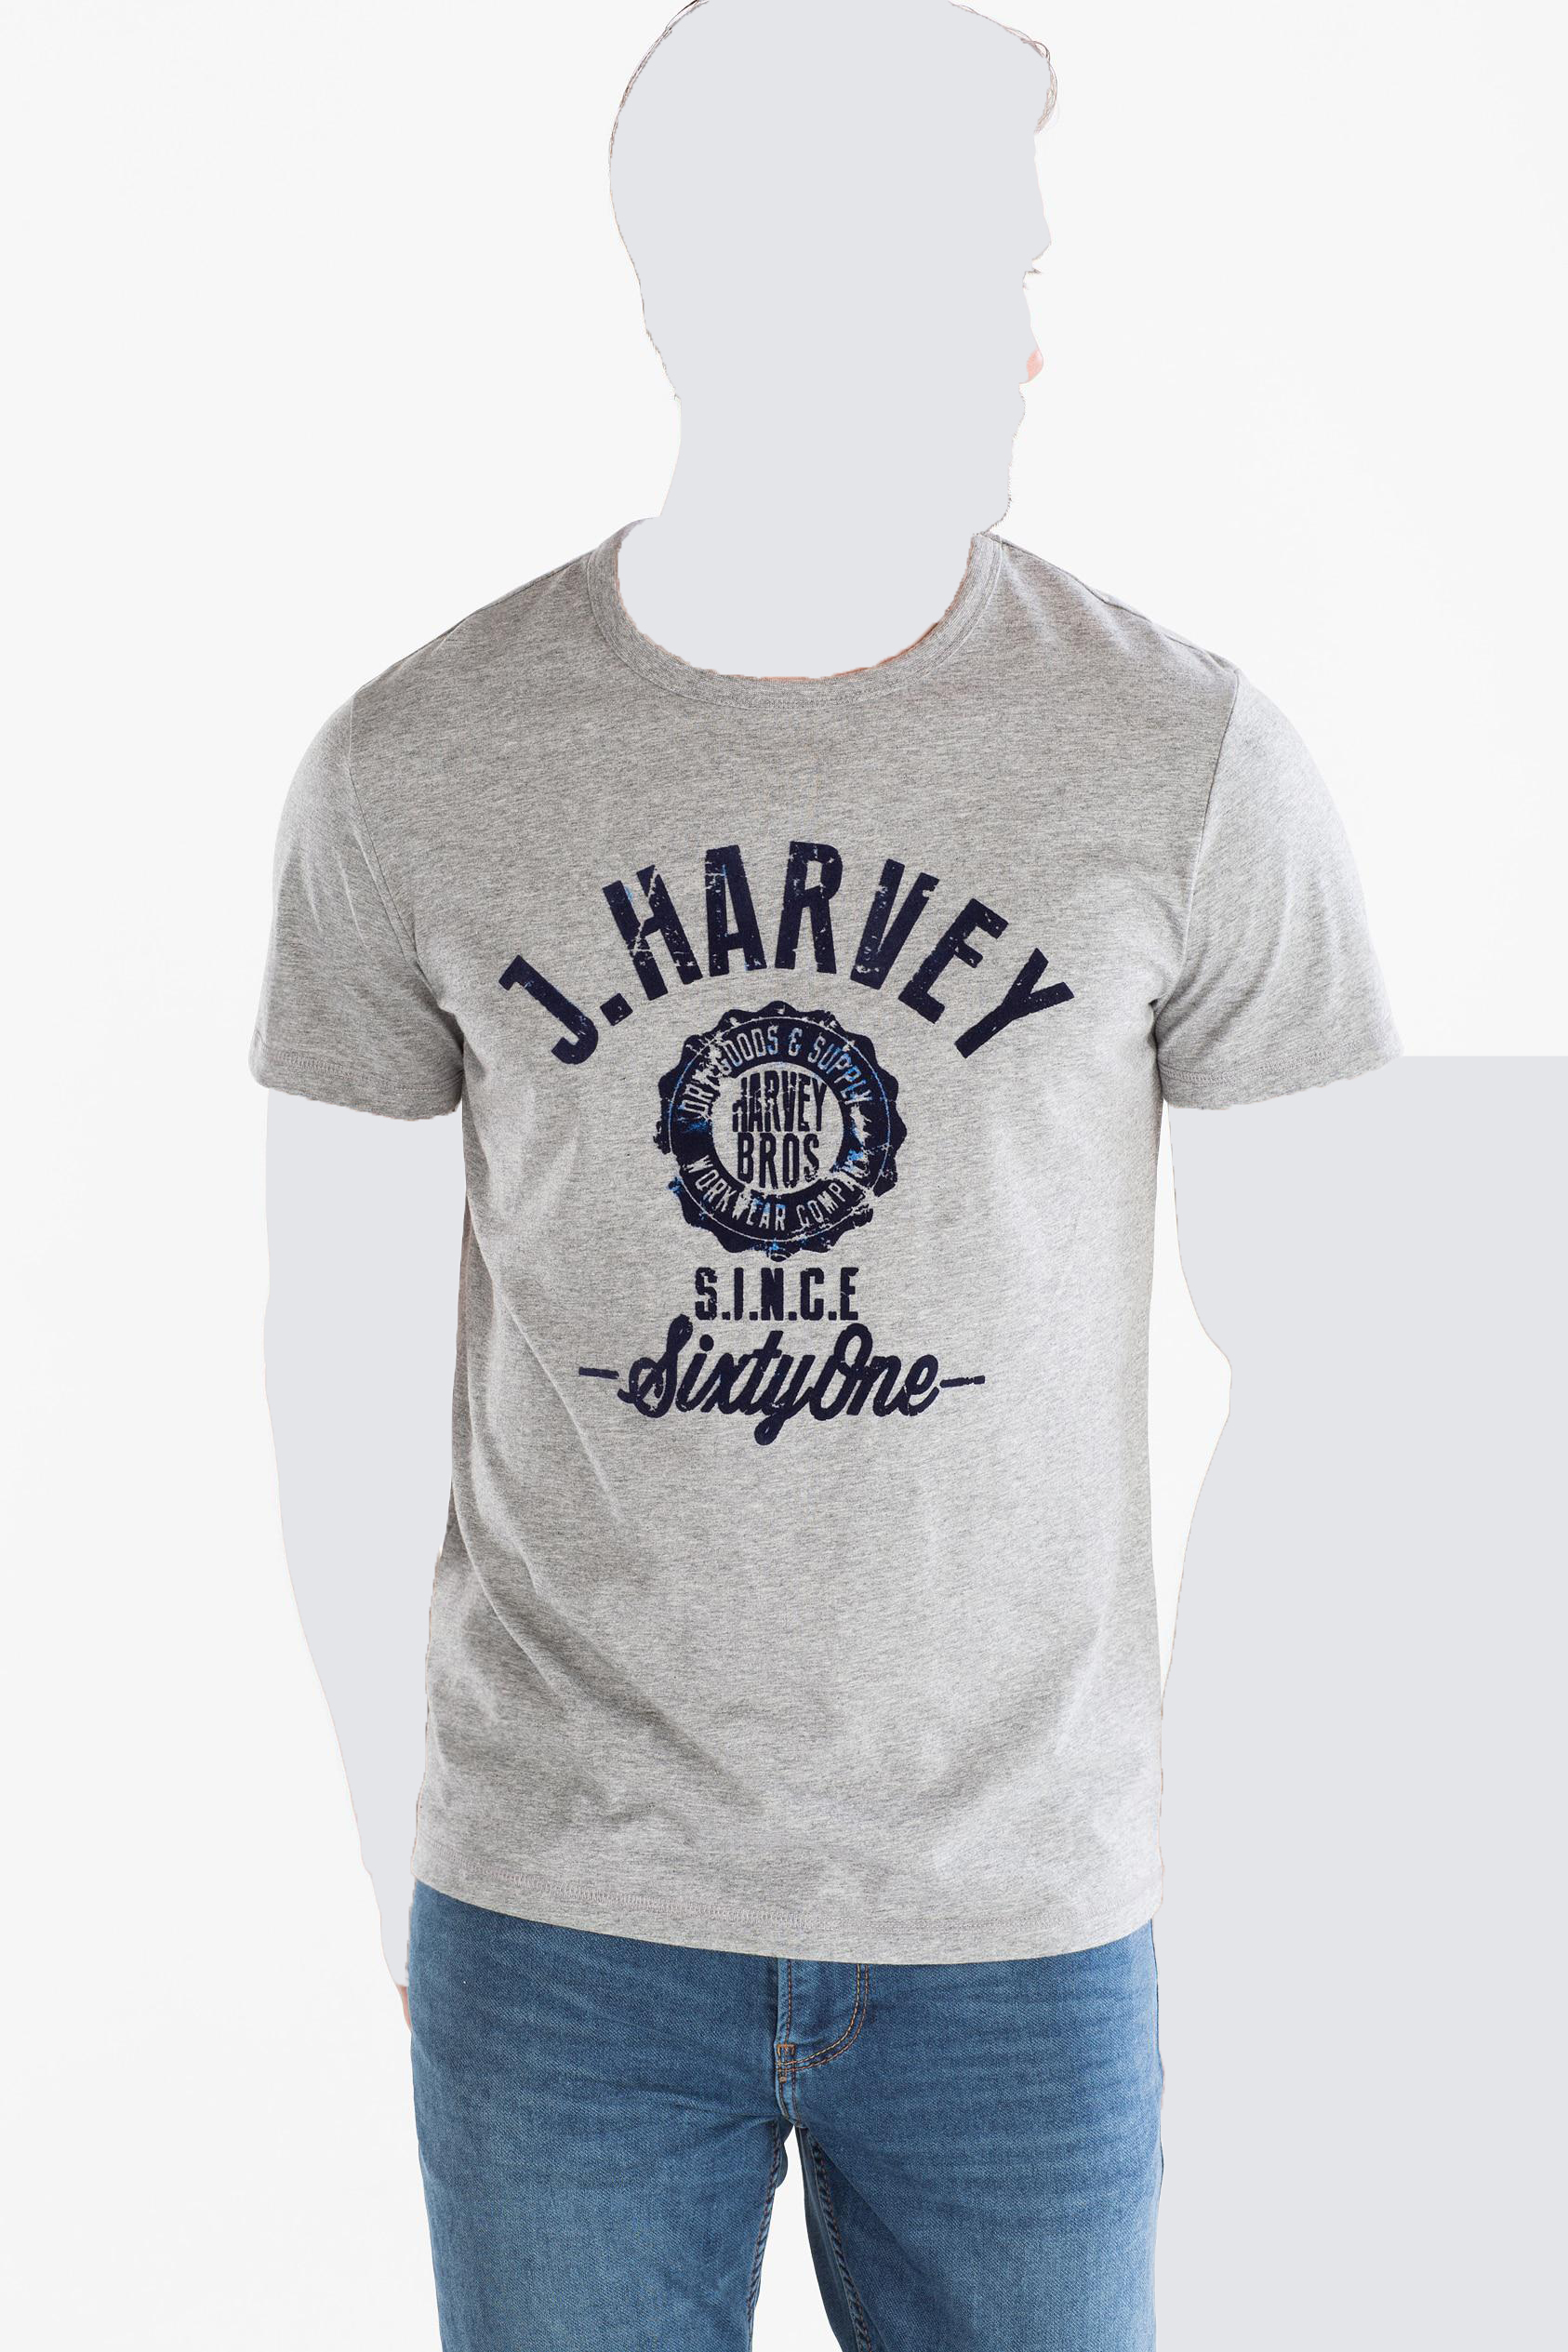teeshirt: (210, 508, 1430, 1970)
